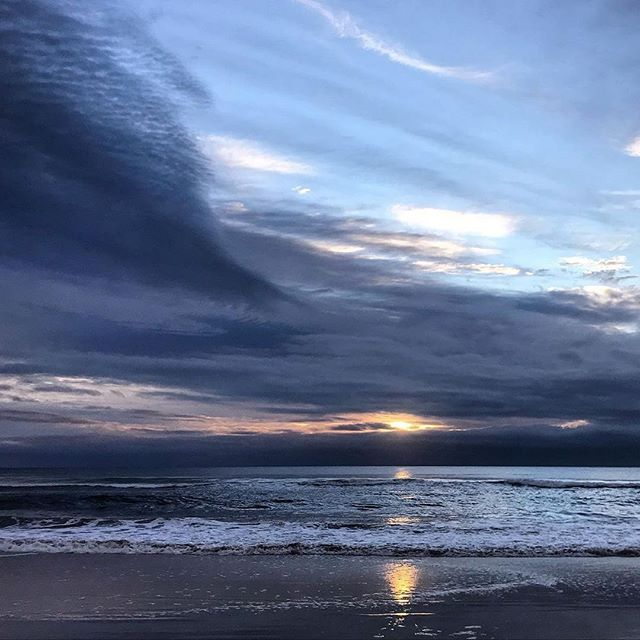sea: (1, 477, 628, 568)
sky: (1, 1, 632, 437)
